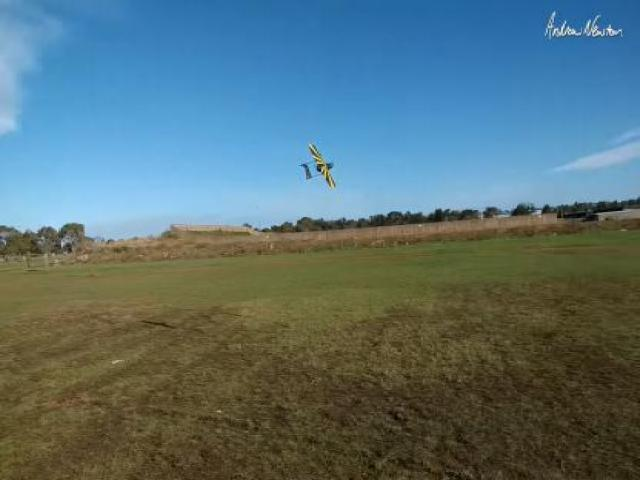uav: (293, 138, 345, 193)
